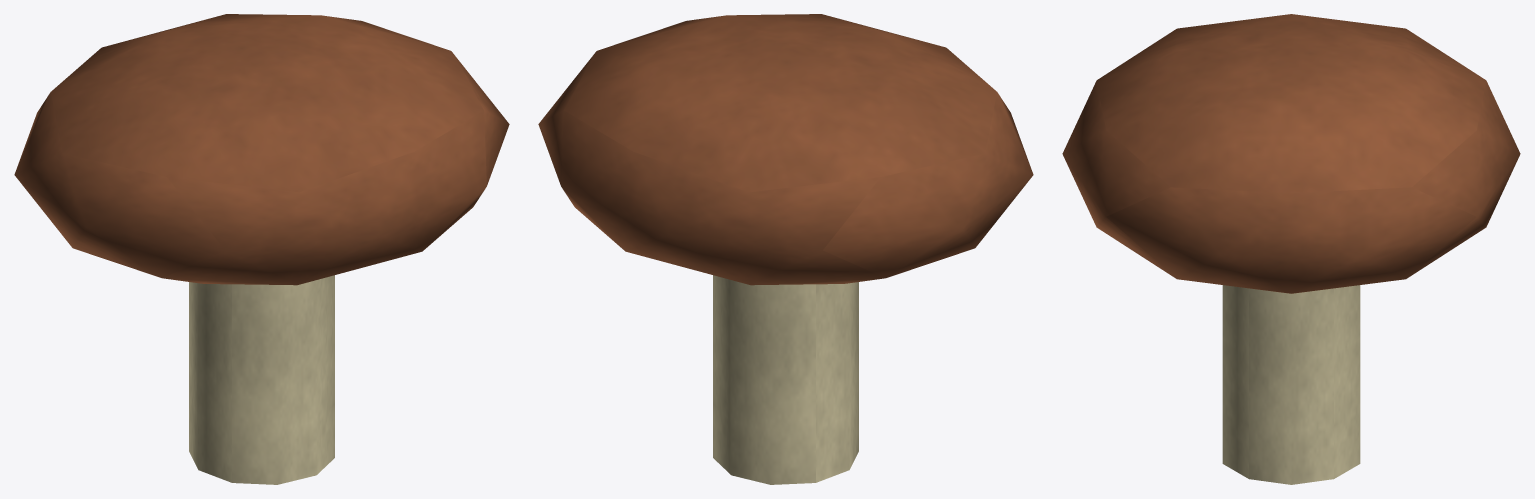
Rendered from item-Mushroom.fbx.
3 views of the same model, side by side, from view 1: azimuth 30°, elevation 25°; view 2: azimuth 150°, elevation 25°; view 3: azimuth 270°, elevation 25° (orthographic).
Visible parts, largest first — view 1: item-Mushroom__Geometry; view 2: item-Mushroom__Geometry; view 3: item-Mushroom__Geometry.
Part boxes in pixels (left/top/right/bottom): item-Mushroom__Geometry: left=14, top=14, right=509, bottom=484; item-Mushroom__Geometry: left=538, top=14, right=1033, bottom=484; item-Mushroom__Geometry: left=1062, top=14, right=1520, bottom=484.
Bounding box in the file's own units: 0.3994 × 0.365 × 0.38.
Materials: 1 (1 with a texture image).
